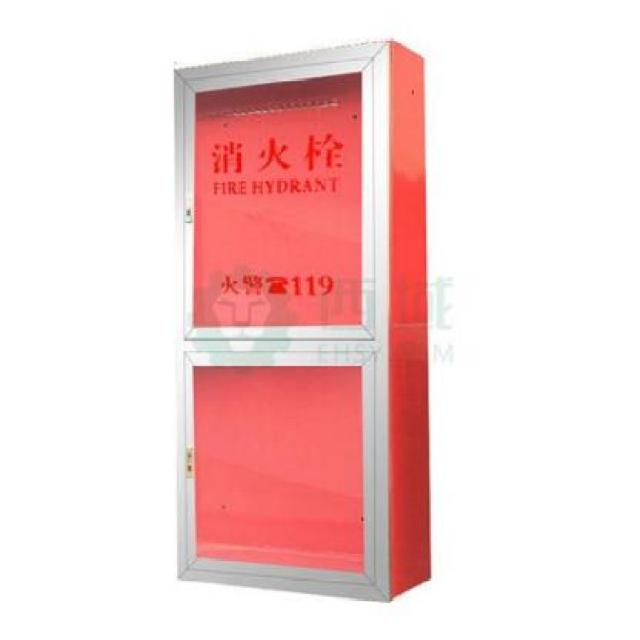firehydrant: (164, 32, 436, 607)
